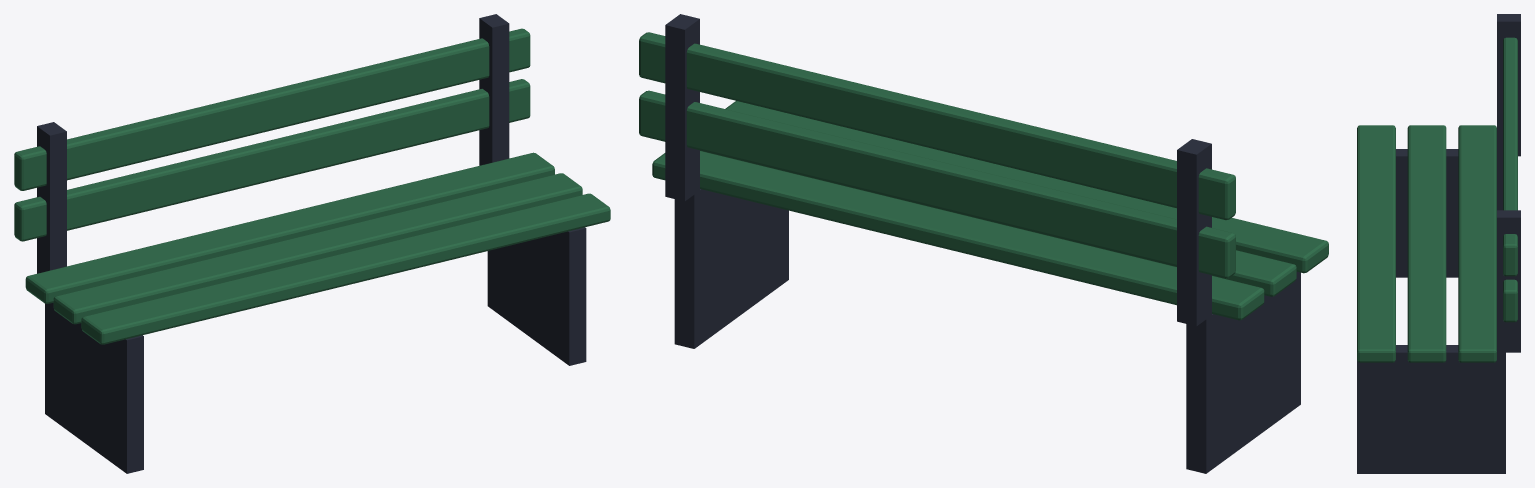
File: bench.glb
3 views of the same model, side by side, from view 1: azimuth 30°, elevation 25°; view 2: azimuth 150°, elevation 25°; view 3: azimuth 270°, elevation 25° (orthographic). The views are drawn at different scales.
Visible parts, largest first — view 1: bench; view 2: bench; view 3: bench.
Part boxes in pixels (x1=…): bench: x1=14, y1=14, x2=610, y2=473; bench: x1=639, y1=14, x2=1328, y2=473; bench: x1=1357, y1=14, x2=1520, y2=473.
Bounding box in the file's own units: 1.8 × 0.95 × 0.55.
